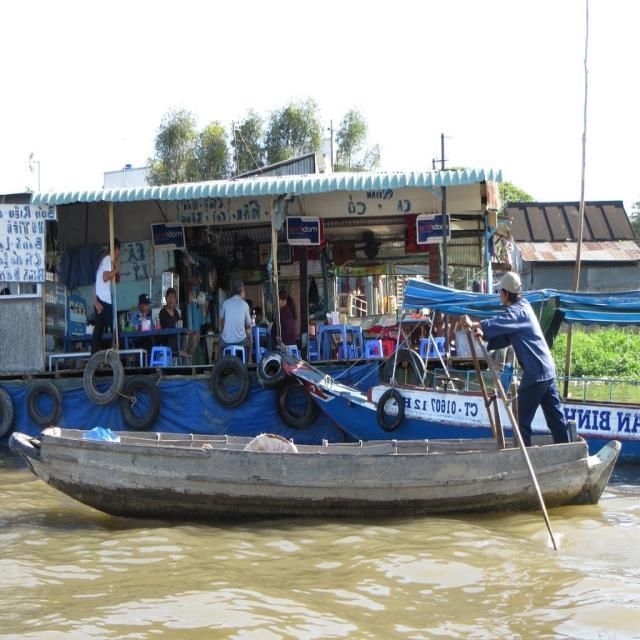boat: (32, 400, 618, 520)
